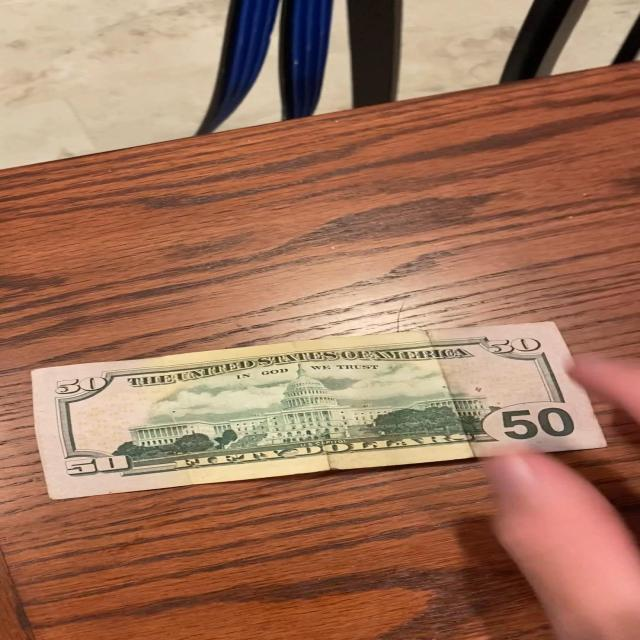50-Back: (25, 317, 617, 504)
